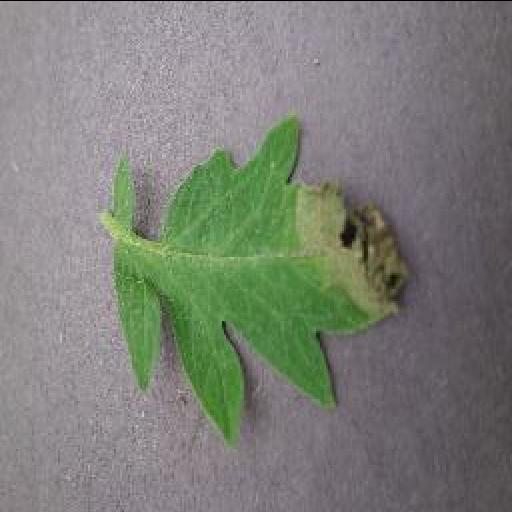disease_tomato: (112, 117, 410, 443)
